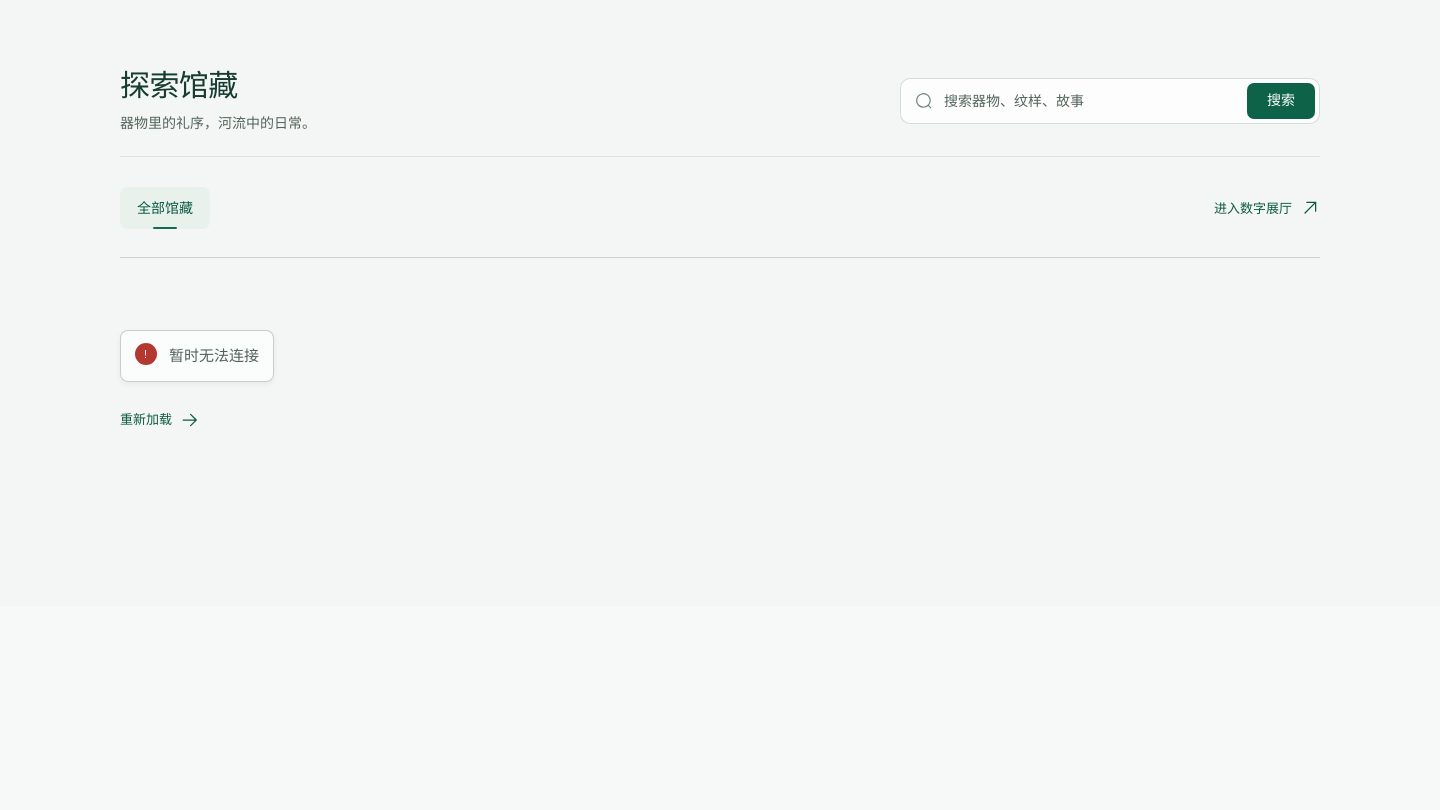
it: Explore gallery presentation and recovery › shows a load failure exclusively and recovers with the retry action
This screenshot has width=1440, height=810.
Expected: the element with class "collection-state--error" shows "暂时无法连接", [169, 347, 259, 364]
Click the button "重新加载": (160, 420) [120, 398, 200, 442]
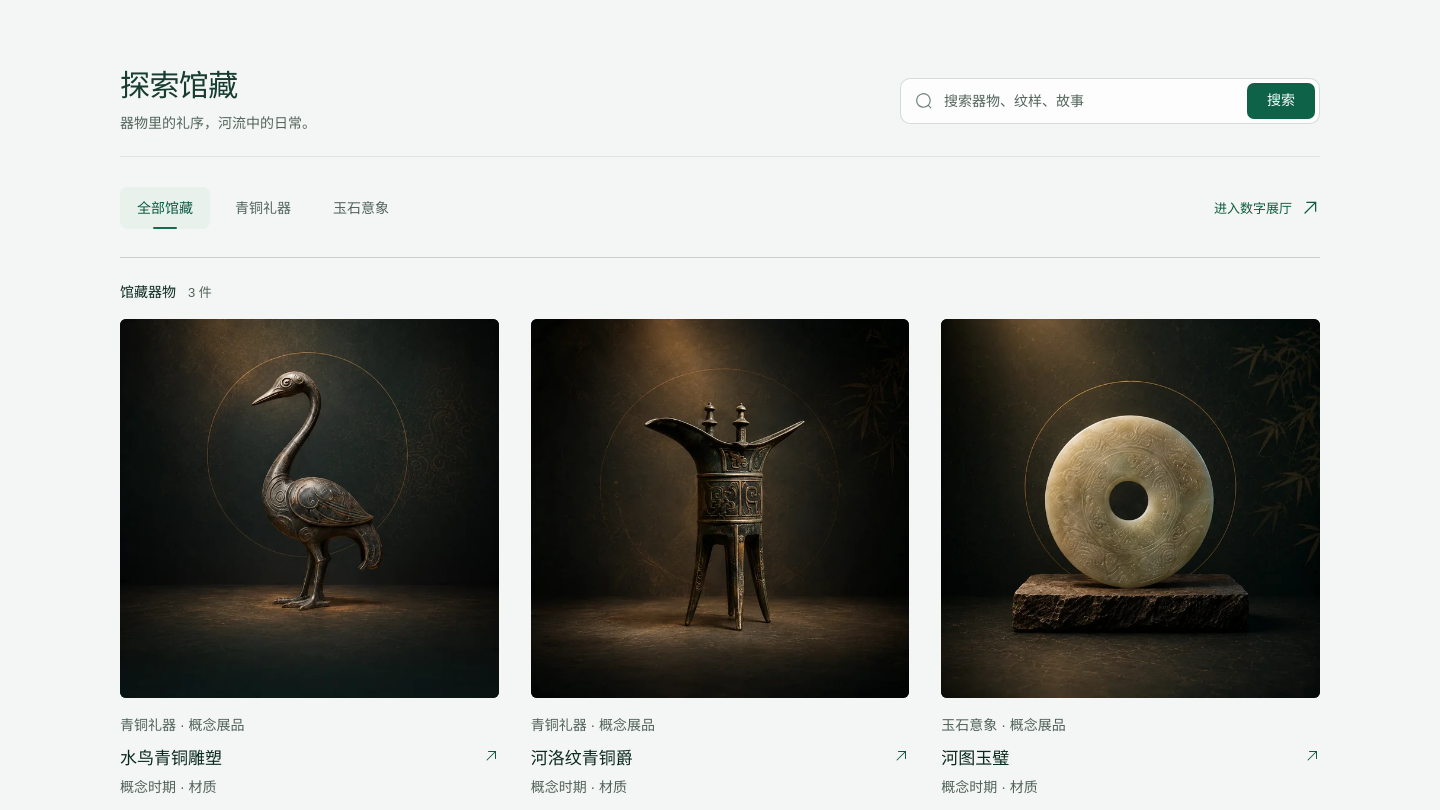
Expected: the number of links with class "gallery-object" is 3, [120, 319, 499, 799]; [531, 319, 909, 799]; [941, 319, 1320, 799]
